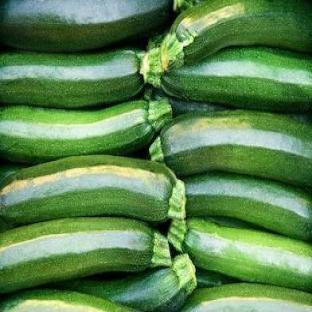Zucchini: (0, 155, 185, 224), (0, 219, 171, 292), (150, 111, 311, 187), (0, 100, 171, 163), (168, 219, 311, 291), (162, 47, 311, 111), (184, 173, 311, 241), (0, 50, 143, 109), (52, 255, 196, 310), (183, 284, 311, 311), (0, 290, 135, 311), (145, 89, 232, 116), (203, 216, 264, 230), (196, 269, 236, 287), (0, 164, 24, 184), (147, 29, 168, 50)
